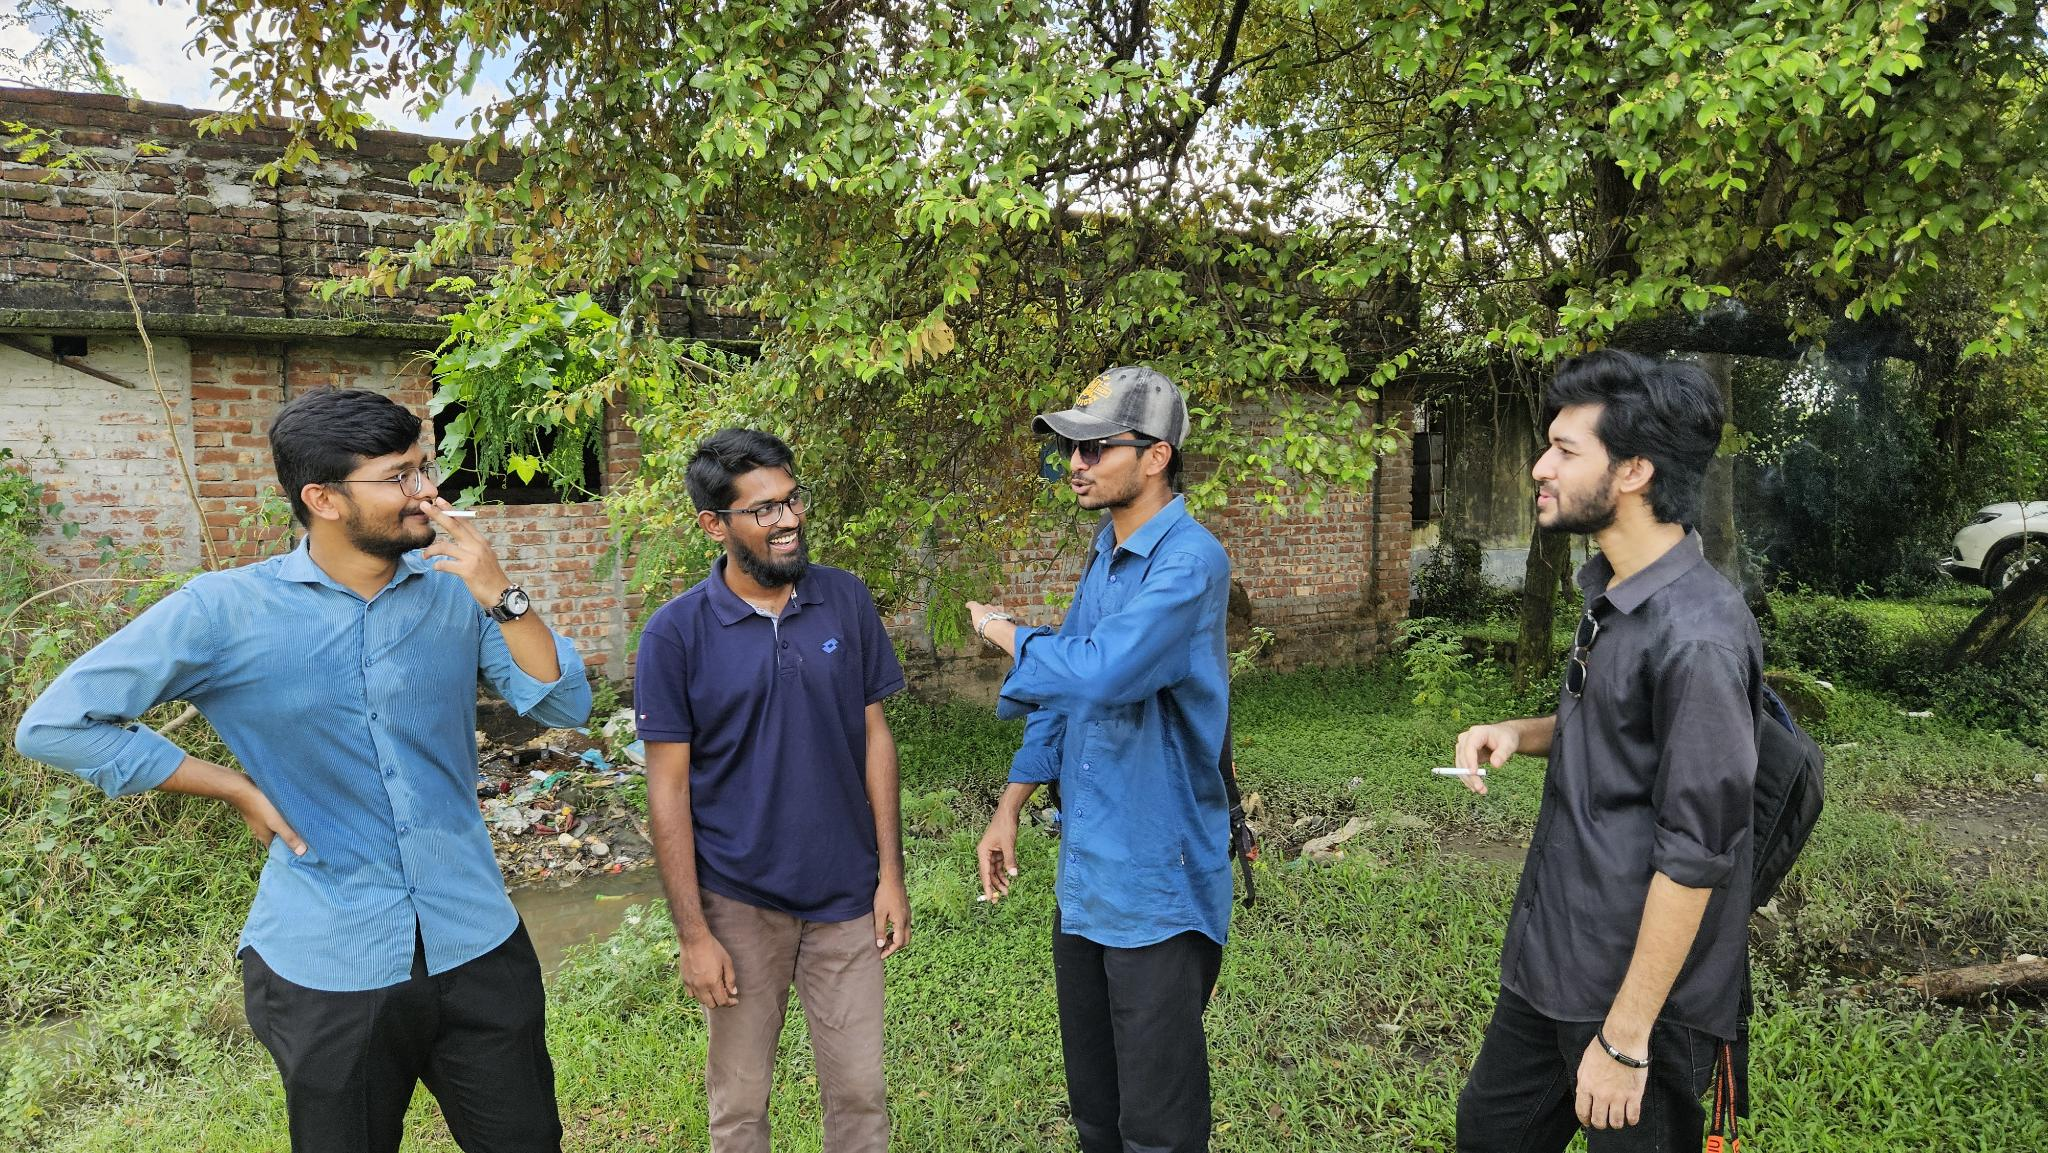cigarette: (1429, 765, 1488, 779), (437, 508, 481, 520), (973, 890, 1001, 904)
nonSmoker: (632, 429, 913, 1153)
smoker: (14, 389, 595, 1153), (1453, 352, 1824, 1153), (965, 366, 1255, 1153)
